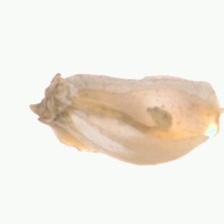L1: (30, 73, 73, 130), (192, 88, 222, 146)
L2: (26, 69, 220, 165)
